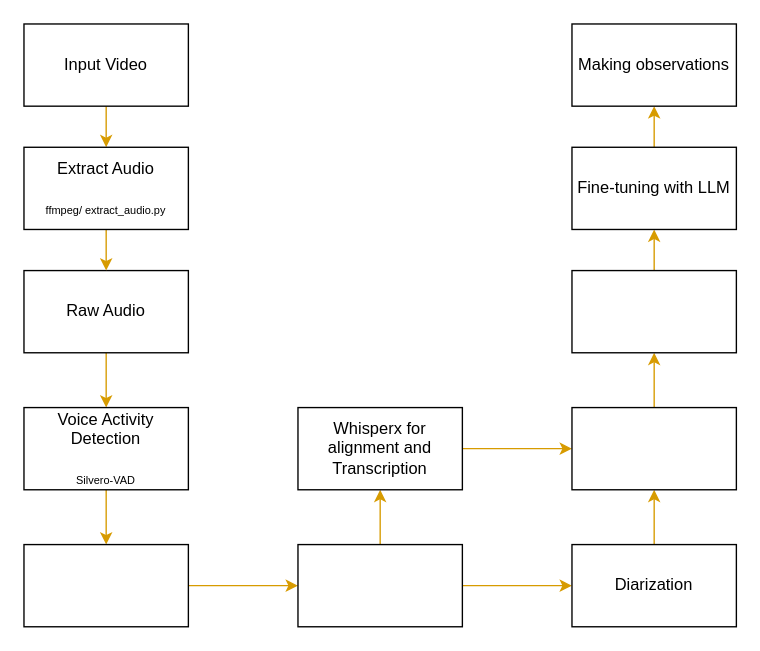
This 760x651 diagram has some shape labels left out. Each missing label, with the centre of its shape:
"Orchestration Module" belongs at point (653, 448).
"Reconstructing Audio using Cut and Merge" belongs at point (379, 585).
"Speech Segments, timestamps, metadata generation" belongs at point (105, 585).
"Transcription with speaker labels" belongs at point (653, 311).
